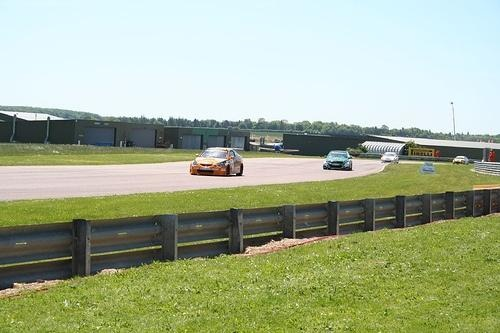car: (189, 145, 245, 178), (323, 149, 355, 173), (381, 153, 399, 164), (454, 156, 472, 167)
